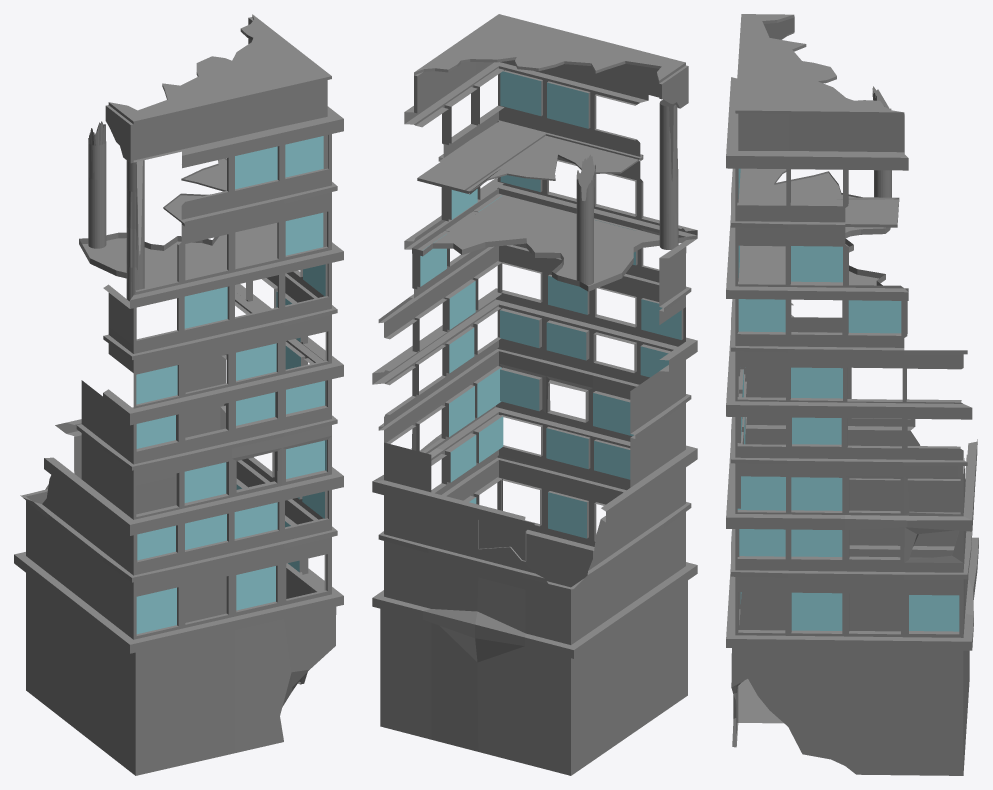
Rendered from building1-2-broken-gray.fbx.
3 renders of one model, left to right at view 1: azimuth 30°, elevation 25°; view 2: azimuth 150°, elevation 25°; view 3: azimuth 270°, elevation 25°, orthographic. The views are drawn at different scales.
Visible parts, largest first — view 1: Cube.002, Cube.003; view 2: Cube.002, Cube.003; view 3: Cube.002, Cube.003.
Boxes of the visible parts, x1,y1,x2,y2 form: Cube.002: (14,14,343,775); Cube.003: (136,136,326,634); Cube.002: (372,14,697,775); Cube.003: (420,71,681,538); Cube.002: (726,14,978,775); Cube.003: (737,168,959,631).
Size of the model in its own units: 212 by 611 by 212.
